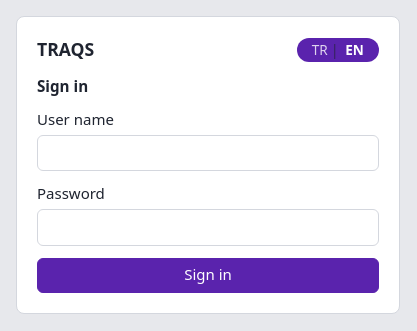
Scenario: language selection › the login screen has the language switch and translates
Check: the field labelled "User name" is shown, box [37, 135, 379, 171]
Click the button with aria-label "Türkçe". click: (320, 50)
box: [308, 40, 331, 60]
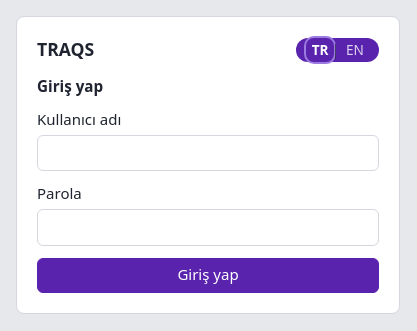
Check: the field labelled "Kullanıcı adı" is shown, box [37, 135, 379, 171]
Check: the button "Giriş yap" is shown, box [37, 258, 379, 292]
